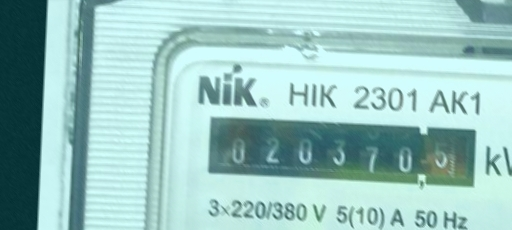0: (395, 144, 415, 174), (229, 134, 247, 164), (297, 135, 313, 164)
2: (263, 134, 282, 166)
3: (330, 136, 347, 166)
5: (431, 138, 451, 170)
7: (362, 143, 379, 174)
screen: (200, 109, 485, 196)
